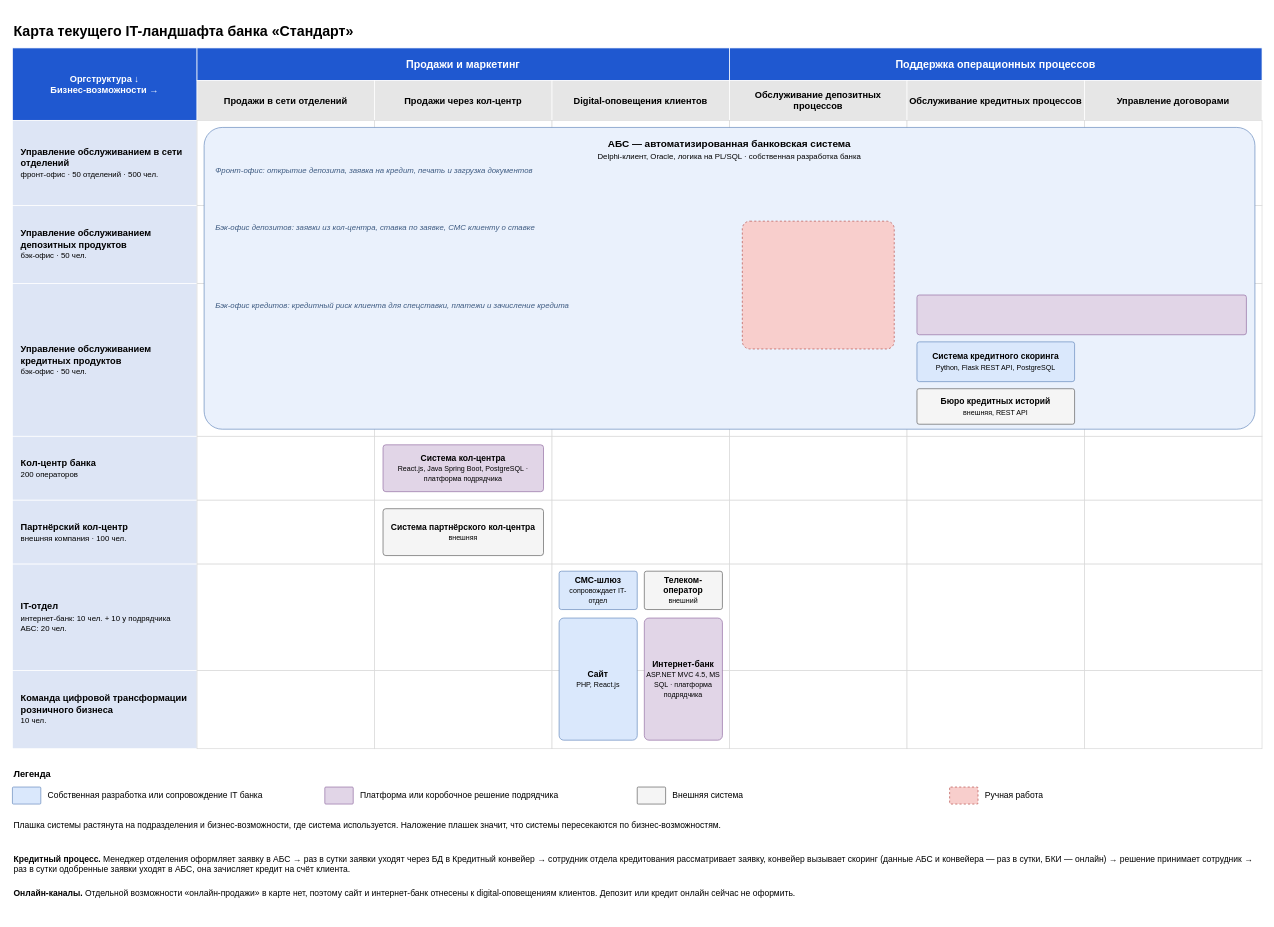
The diagram is 1274 pixels wide and 927 high, and some of its shapes have lost their labels. Each missing label, with the centre of its shape:
Excel-файлы ставок считаются вручную, пересылаются по почте: point 818,284
Кредитный конвейер Camunda BPM, Oracle · коробка подрядчика: point 1081,314
